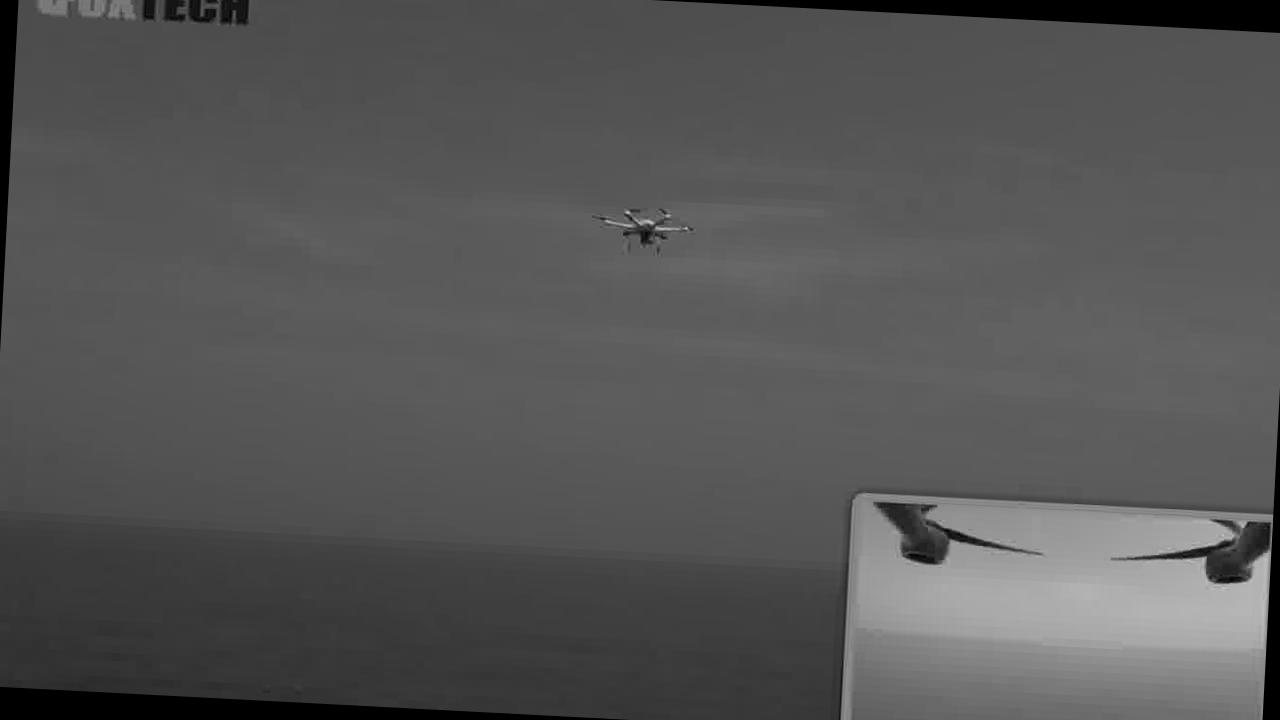drone: (594, 182, 702, 264)
